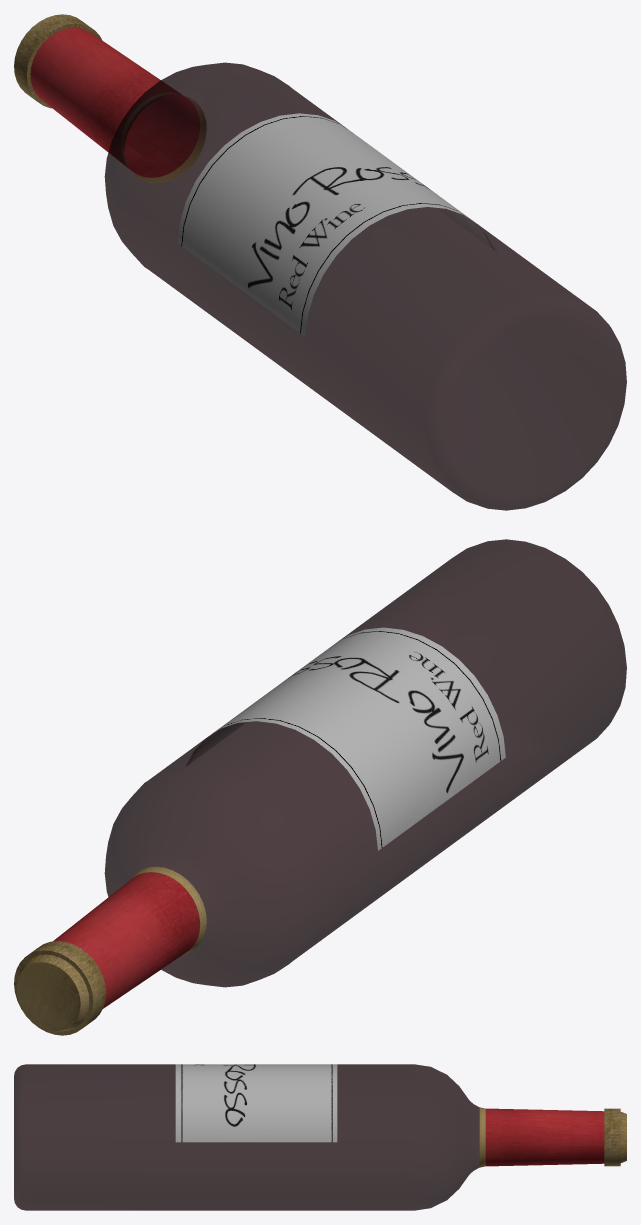
Rendered from Bottle.fbx.
3 views of the same model, one above another, from view 1: azimuth 30°, elevation 25°; view 2: azimuth 150°, elevation 25°; view 3: azimuth 270°, elevation 25° (orthographic). The views are drawn at different scales.
Parts seen in each view (by area): view 1: Bottle; view 2: Bottle; view 3: Bottle.
Part boxes in pixels (<box>): Bottle: <box>14,14,626,510</box>; Bottle: <box>14,539,626,1035</box>; Bottle: <box>14,1064,626,1210</box>.
Bounding box in the file's own units: 9.07 × 9.07 × 37.93.
2 materials, 1 textured.
